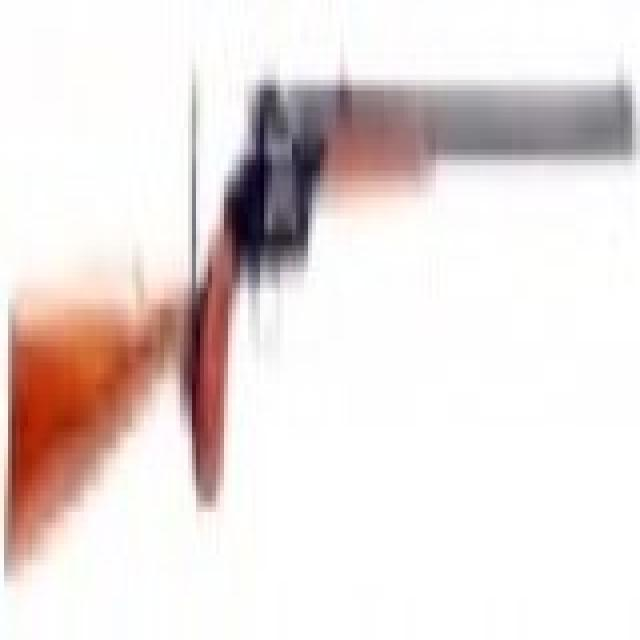Gun: (5, 23, 640, 589)
